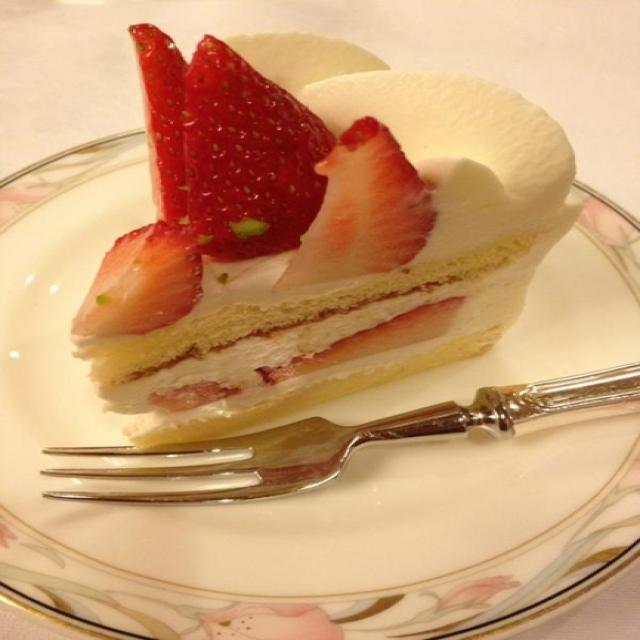蛋糕甜品: (9, 18, 625, 604)
